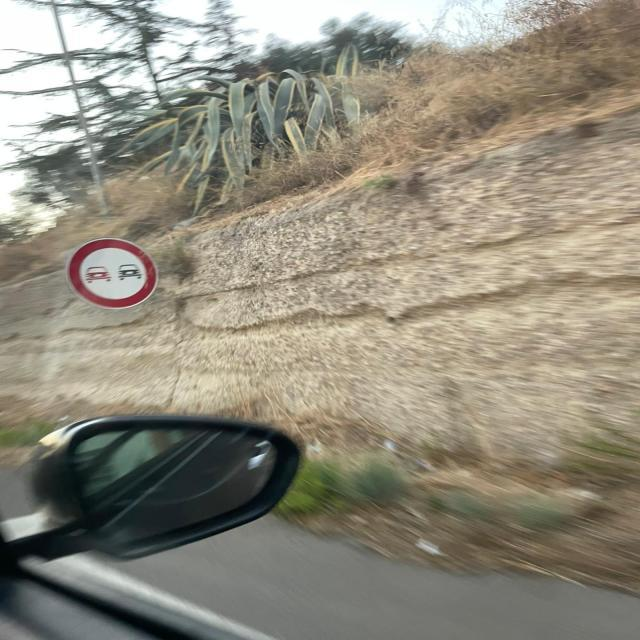forb_overtake: (66, 237, 159, 310)
